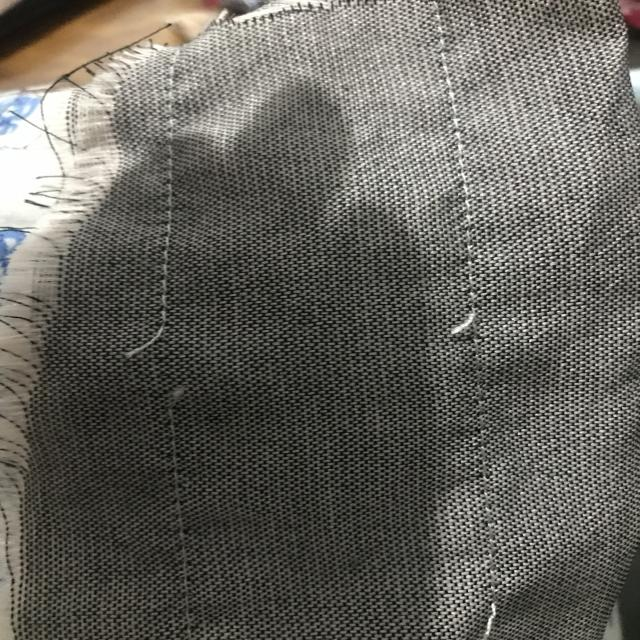broken: (108, 300, 215, 427)
good: (150, 192, 182, 267)
